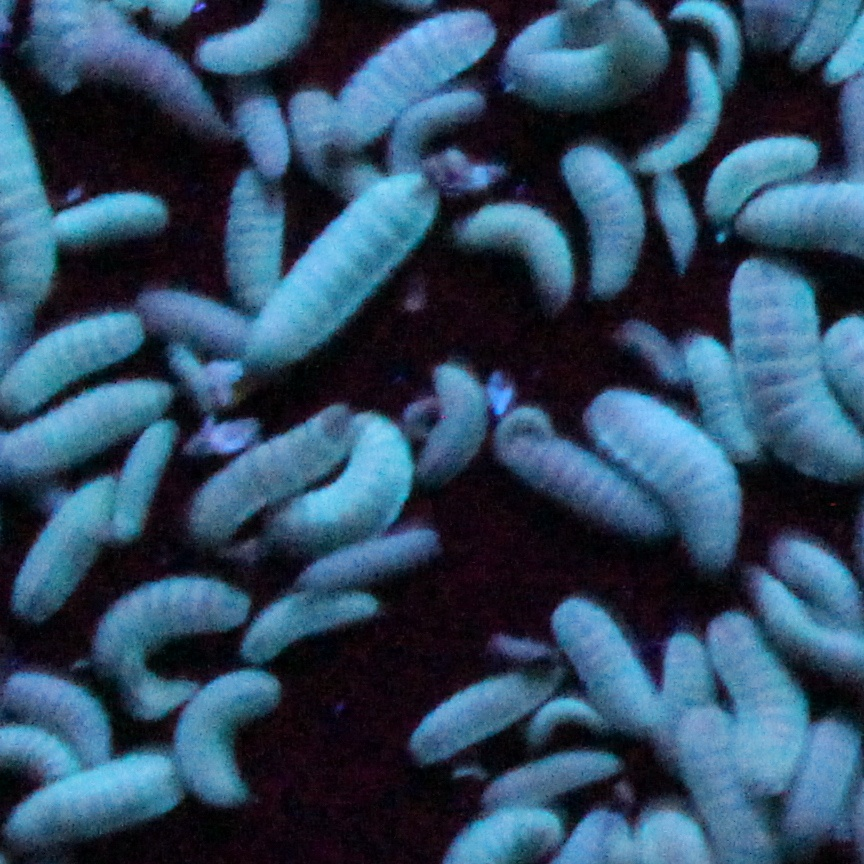larve: (236, 167, 454, 362), (583, 385, 749, 573), (324, 1, 497, 153), (195, 401, 347, 553), (502, 419, 670, 535), (706, 610, 808, 798), (274, 414, 411, 551), (97, 576, 265, 682), (554, 130, 649, 307), (170, 673, 295, 807), (556, 592, 663, 742), (6, 753, 170, 846), (408, 671, 561, 762), (15, 485, 117, 612), (467, 198, 583, 305), (236, 592, 392, 662), (11, 671, 120, 769), (699, 132, 822, 217), (370, 85, 488, 173), (645, 46, 720, 180), (113, 419, 188, 551), (686, 335, 758, 471), (422, 353, 492, 492), (477, 744, 617, 807), (236, 162, 288, 294), (45, 192, 174, 244), (640, 160, 699, 273), (231, 92, 299, 185), (145, 292, 249, 348), (674, 1, 745, 78), (647, 628, 717, 703), (286, 85, 347, 164), (529, 694, 604, 742)
